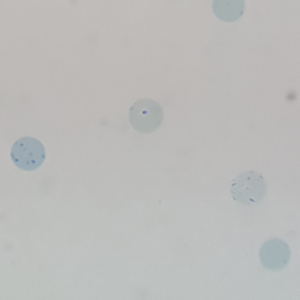erythrocyte: (126, 97, 165, 135), (257, 237, 292, 272)
punctate reticulocyte: (228, 169, 269, 207), (9, 135, 47, 173)
